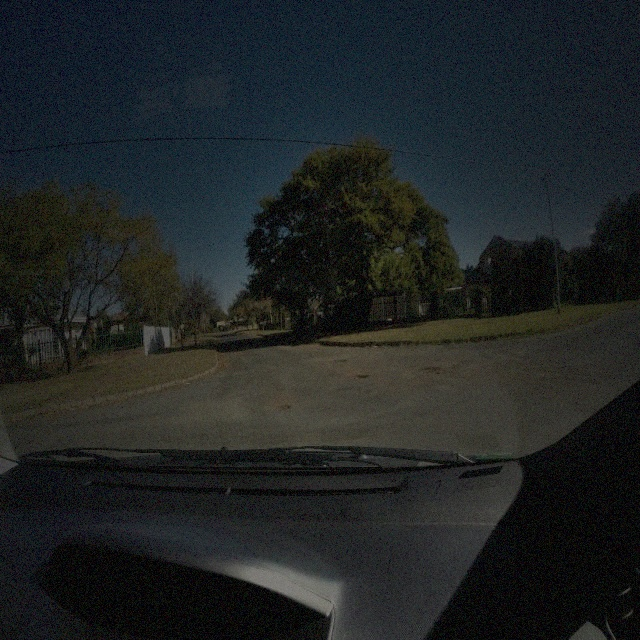pothole: (413, 365, 444, 376), (350, 372, 372, 382), (276, 402, 290, 412), (326, 358, 348, 364)
